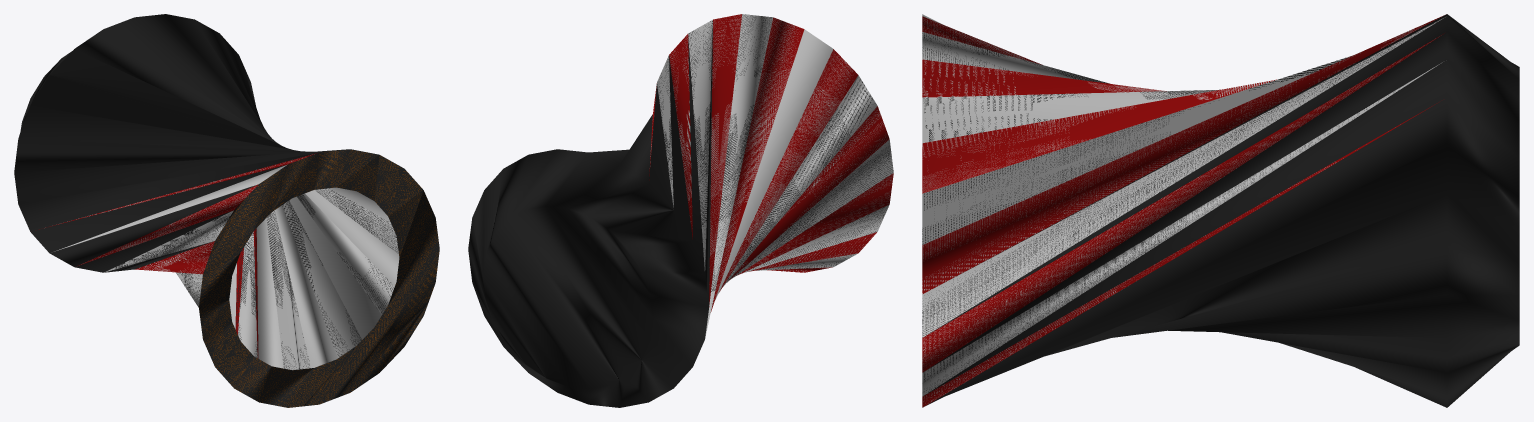
The model's file is model_align.obj.
3 renders of one model, left to right at view 1: azimuth 30°, elevation 25°; view 2: azimuth 150°, elevation 25°; view 3: azimuth 270°, elevation 25°, orthographic. The views are drawn at different scales.
Bounding box in the file's own units: 0.0742 × 0.0742 × 0.1122.
